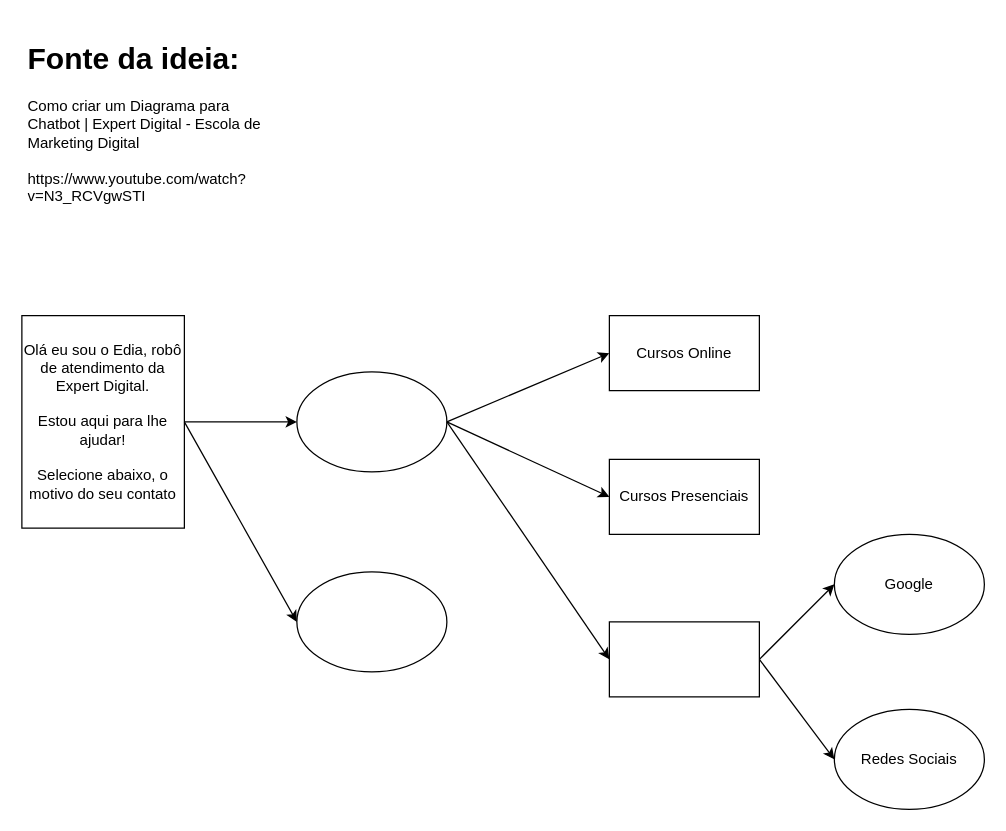
Some shapes in this 1006 by 831 pixel diagram are drawn without their labels. The shapes that lost their labels are listed below. From the top down, each one's centre as x and y in pixels, then its label:
At point 371,421: "Cursos".
At point 371,621: "Consultoria".
At point 683,659: "Cursos em Vídeo aulas".
